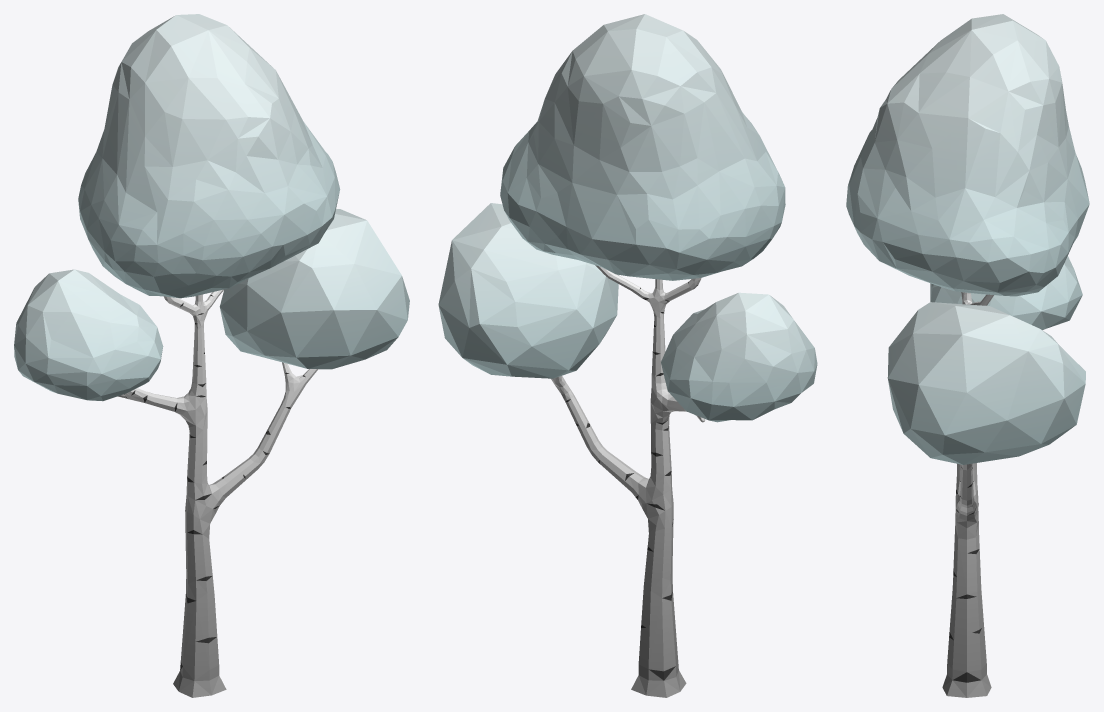
The model's file is Winter_Tree_14.glb.
3 renders of one model, left to right at view 1: azimuth 30°, elevation 25°; view 2: azimuth 150°, elevation 25°; view 3: azimuth 270°, elevation 25°, orthographic. The views are drawn at different scales.
Parts seen in each view (by area): view 1: Winter_Tree_14_LOD0; view 2: Winter_Tree_14_LOD0; view 3: Winter_Tree_14_LOD0.
Boxes of the visible parts, x1,y1,x2,y2 form: Winter_Tree_14_LOD0: (14, 14, 409, 697); Winter_Tree_14_LOD0: (438, 14, 817, 697); Winter_Tree_14_LOD0: (846, 14, 1089, 697).
Size of what is drawn, in the model's own units: 4.52 by 7.82 by 2.59.
Materials: 1 (1 with a texture image).
